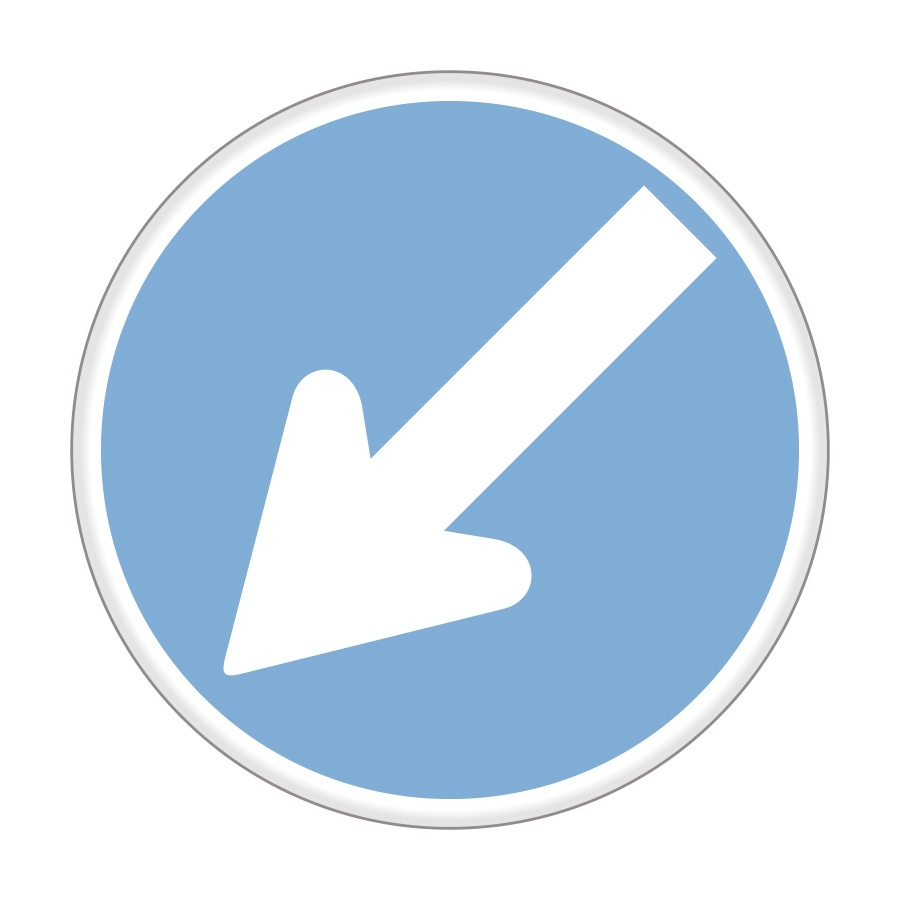Direction_sign: (76, 51, 840, 846)
